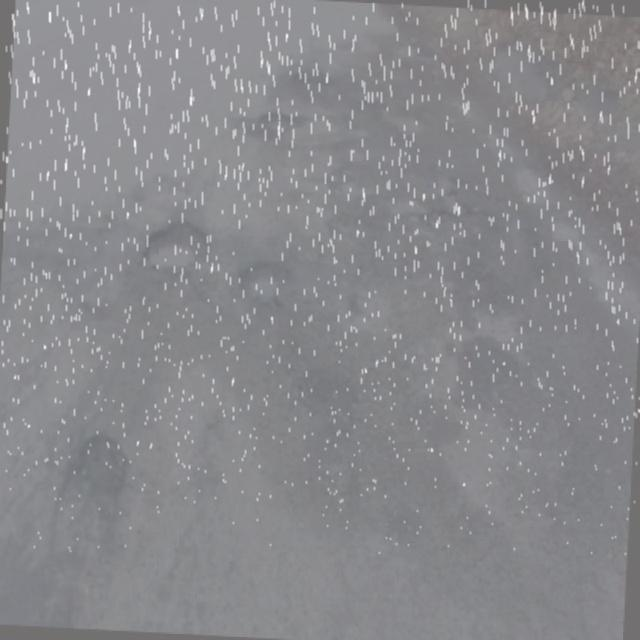Pothole: (30, 417, 136, 611), (389, 275, 553, 376), (163, 416, 246, 614), (448, 407, 560, 540), (337, 188, 470, 248), (230, 255, 316, 333), (133, 209, 213, 288), (218, 100, 323, 138)
